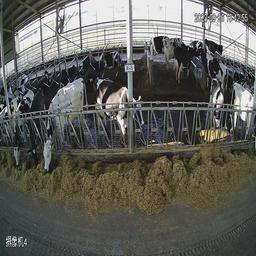cow: (41, 77, 82, 172), (93, 78, 147, 145), (43, 77, 81, 172), (94, 79, 146, 143), (207, 78, 234, 148), (208, 79, 232, 142), (14, 89, 31, 170), (199, 50, 228, 96), (27, 87, 42, 162), (173, 44, 195, 83), (149, 35, 173, 66), (164, 37, 185, 70), (84, 59, 101, 91), (204, 37, 223, 63), (103, 49, 120, 70)
